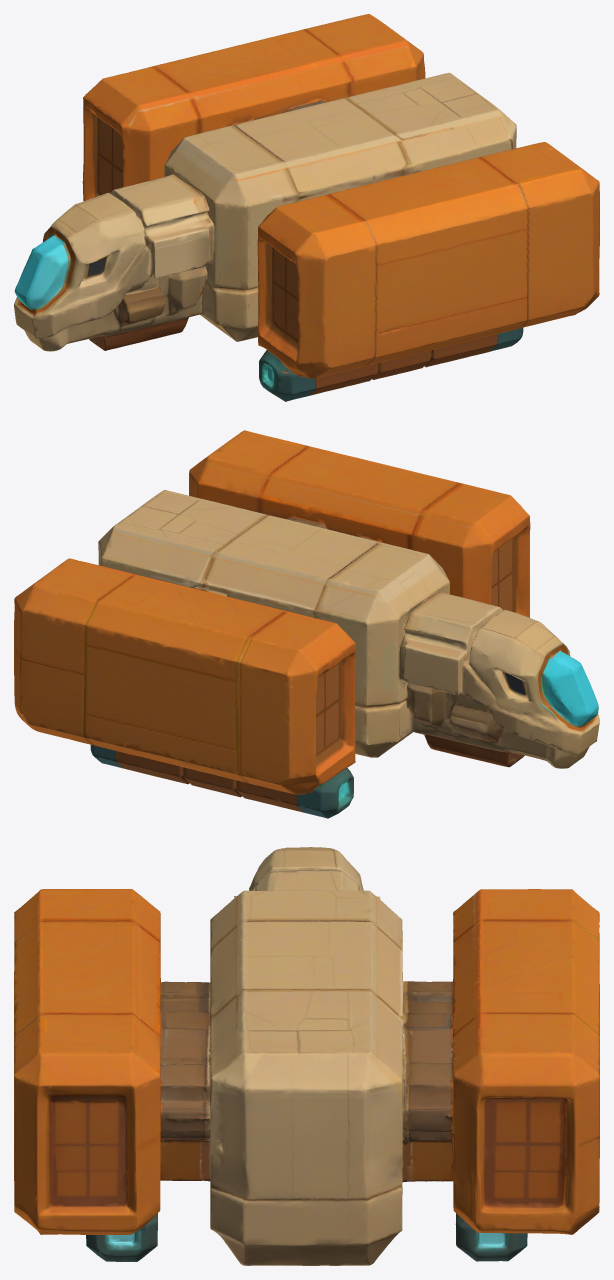
Rendered from Vantar Nomad.glb.
3 views of the same model, one above another, from view 1: azimuth 30°, elevation 25°; view 2: azimuth 150°, elevation 25°; view 3: azimuth 270°, elevation 25° (orthographic). The views are drawn at different scales.
Bounding box in the file's own units: 2 × 0.7541 × 1.7.
Materials: 1 (1 with a texture image).
